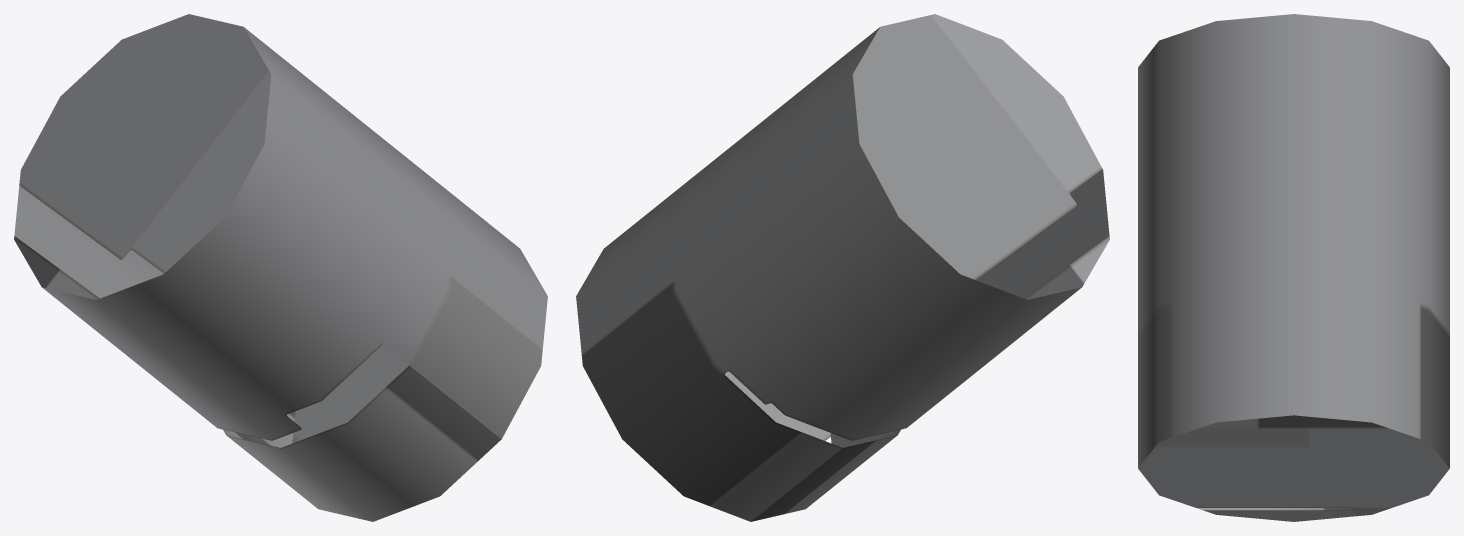
3 views of the same model, side by side, from view 1: azimuth 30°, elevation 25°; view 2: azimuth 150°, elevation 25°; view 3: azimuth 270°, elevation 25° (orthographic). The views are drawn at different scales.
Size of the model in its own units: 0.325 by 0.325 by 0.1939.
